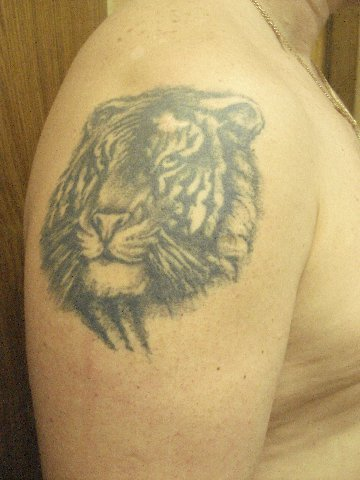tatu5_tigr: (36, 84, 267, 357)
